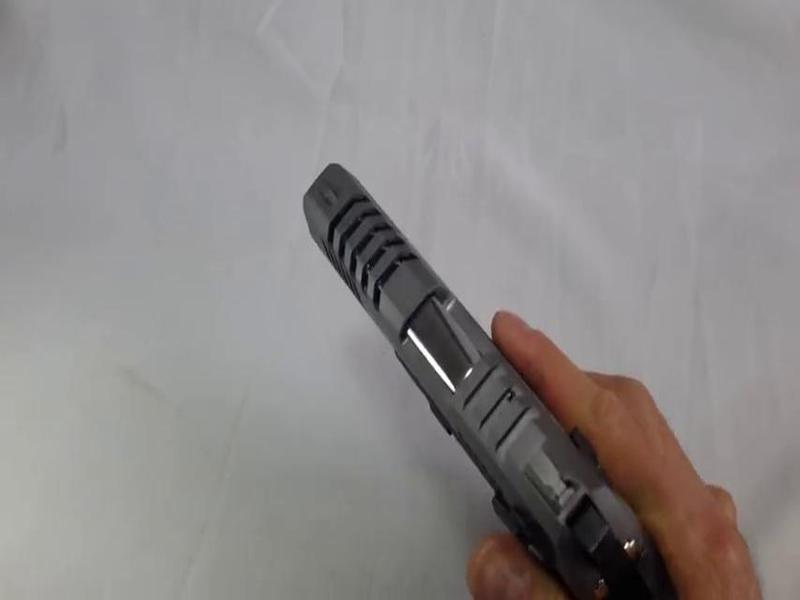Pistola: (220, 138, 697, 586)
